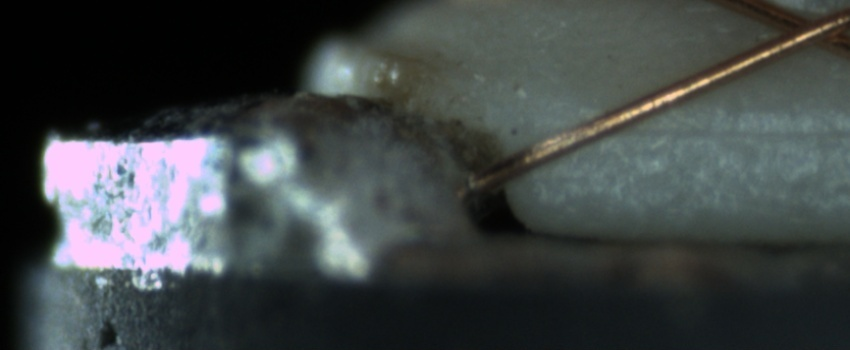CL: (752, 1, 849, 59)
DL: (578, 98, 845, 162)
